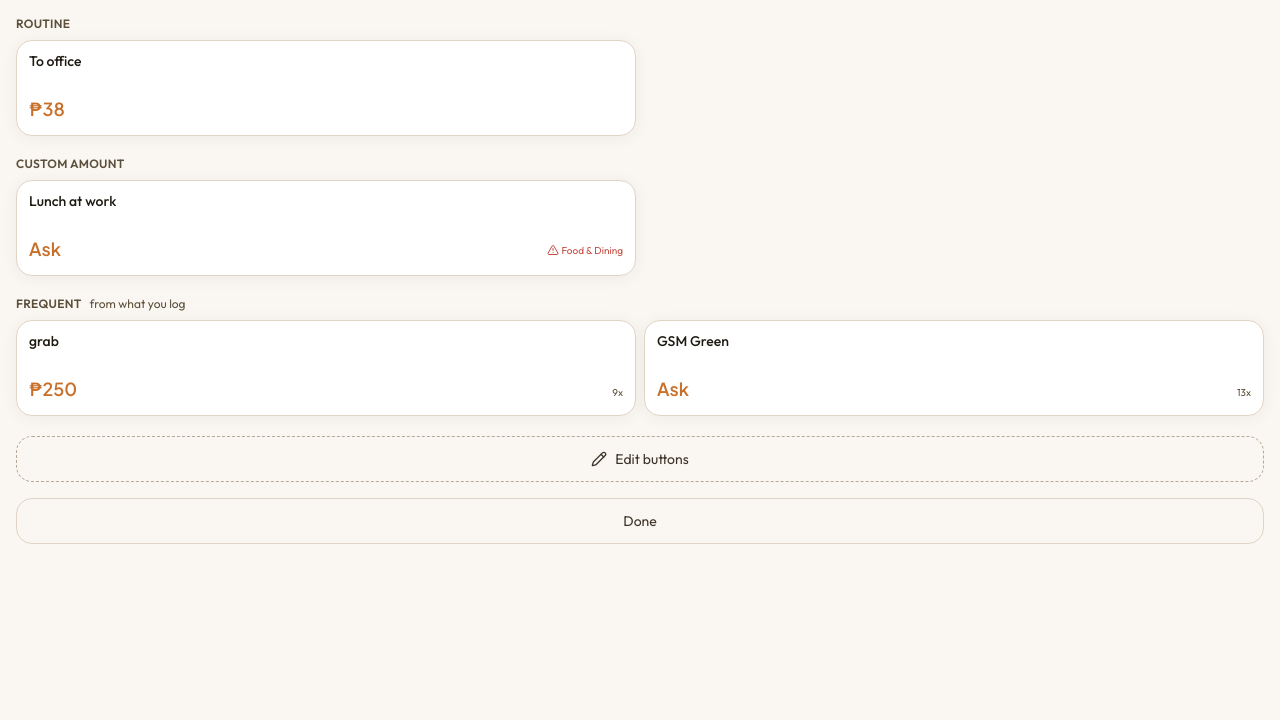
Test: TelegramApp: logging › opens the pad for a tile that asks, rather than logging
The image size is (1280, 720).
Click the text "Lunch at work": (73, 202) top-left (29, 193), bottom-right (116, 210)
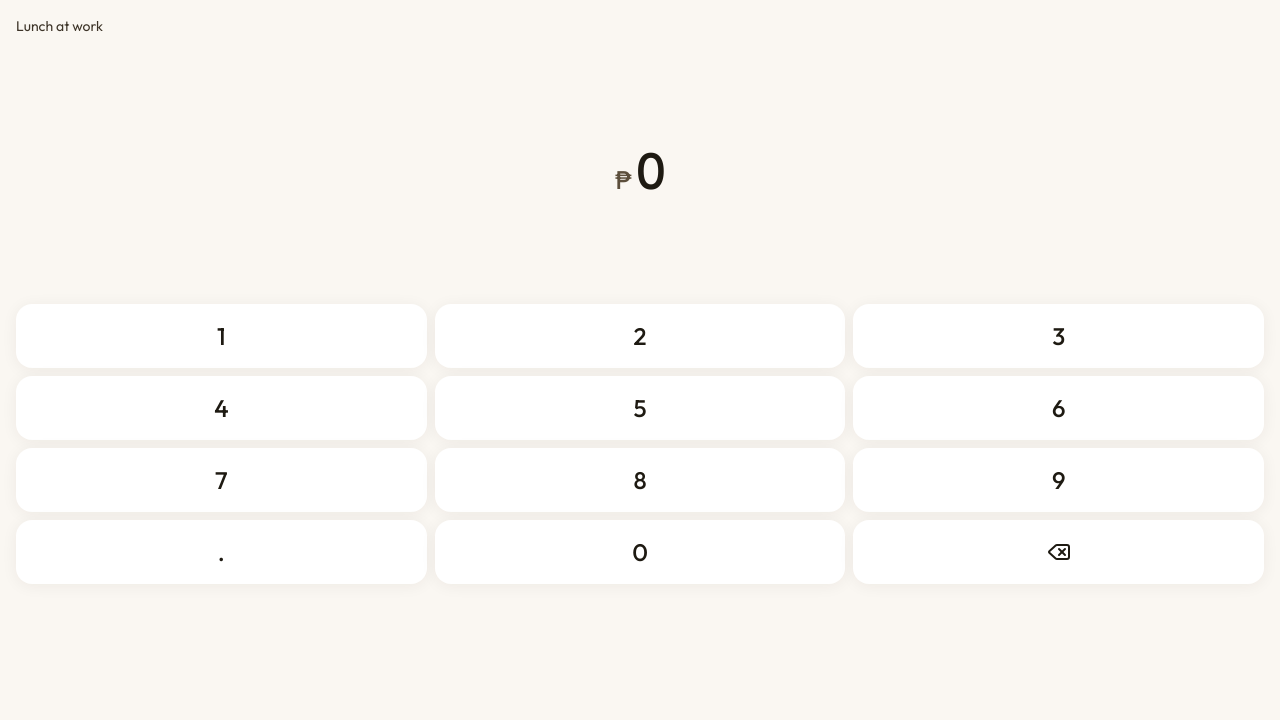
Expected: the button named "Delete" is shown, top-left (853, 520), bottom-right (1264, 584)
